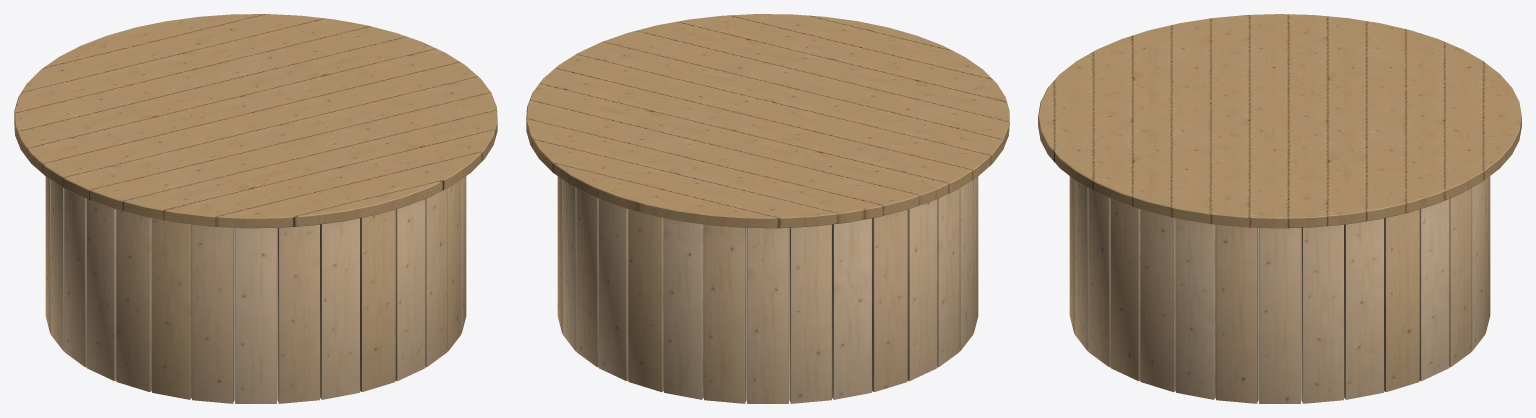
The model's file is round_bar.glb.
3 views of the same model, side by side, from view 1: azimuth 30°, elevation 25°; view 2: azimuth 150°, elevation 25°; view 3: azimuth 270°, elevation 25° (orthographic).
Parts seen in each view (by area): view 1: round_bar; view 2: round_bar; view 3: round_bar.
Boxes of the visible parts, <box> form: round_bar: <box>14,14,497,403</box>; round_bar: <box>526,14,1009,403</box>; round_bar: <box>1038,14,1521,403</box>.
Bounding box in the file's own units: 2.48 × 1.13 × 2.48.
Materials: 1 (1 with a texture image).
